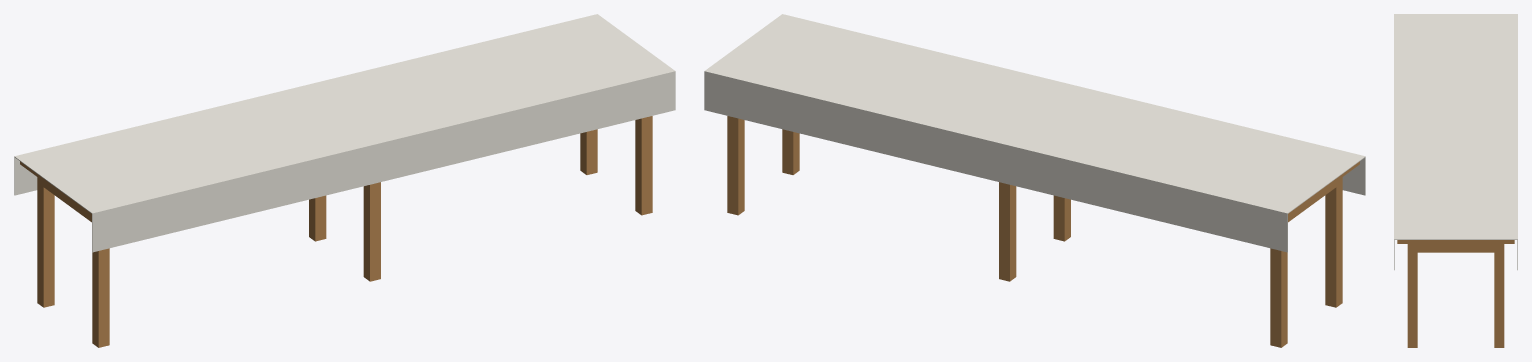
The picture shows the model from 3 angles, left to right: view 1: azimuth 30°, elevation 25°; view 2: azimuth 150°, elevation 25°; view 3: azimuth 270°, elevation 25°; orthographic projection. The views are drawn at different scales.
Visible parts, largest first — view 1: parametric-variant-table-2nd-pub-392c0d59850cfb882265; view 2: parametric-variant-table-2nd-pub-392c0d59850cfb882265; view 3: parametric-variant-table-2nd-pub-392c0d59850cfb882265.
Part boxes in pixels (x1,y1,x2,y2): parametric-variant-table-2nd-pub-392c0d59850cfb882265: (14, 14, 675, 347); parametric-variant-table-2nd-pub-392c0d59850cfb882265: (704, 14, 1365, 347); parametric-variant-table-2nd-pub-392c0d59850cfb882265: (1394, 14, 1517, 347).
Bounding box in the file's own units: 3.19 × 0.754 × 0.74.
